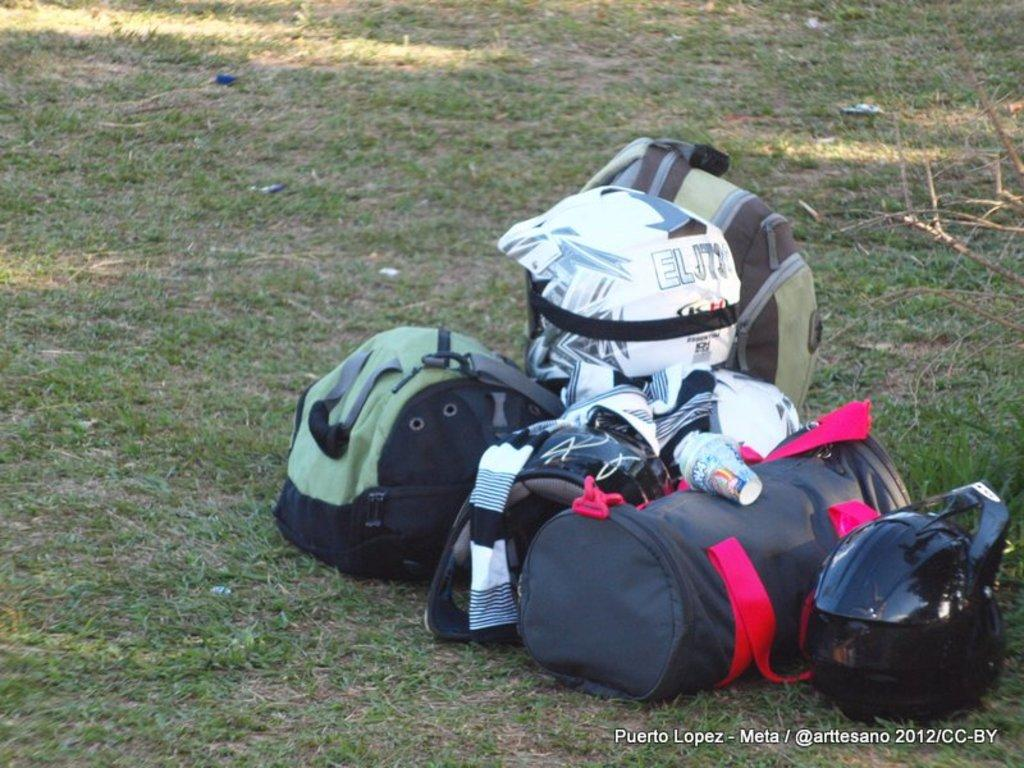Luggage-and-bags: (271, 323, 563, 582)
